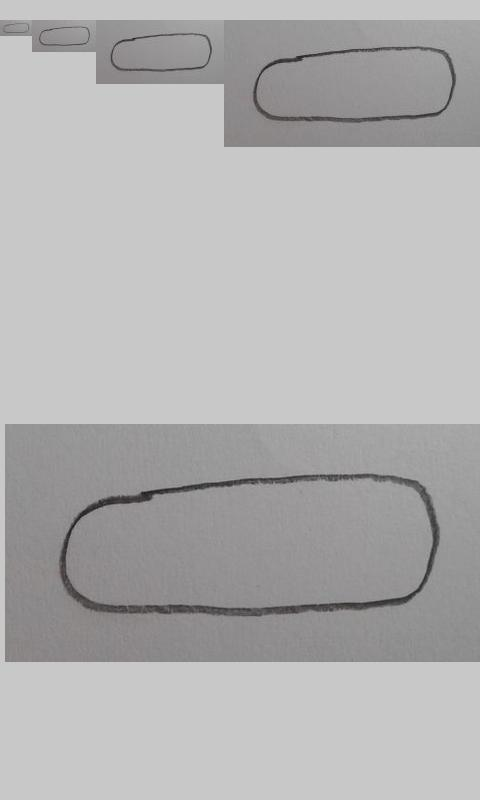chip: (59, 473, 443, 616), (251, 46, 457, 123), (110, 32, 212, 72), (38, 26, 91, 46), (3, 22, 30, 34)
